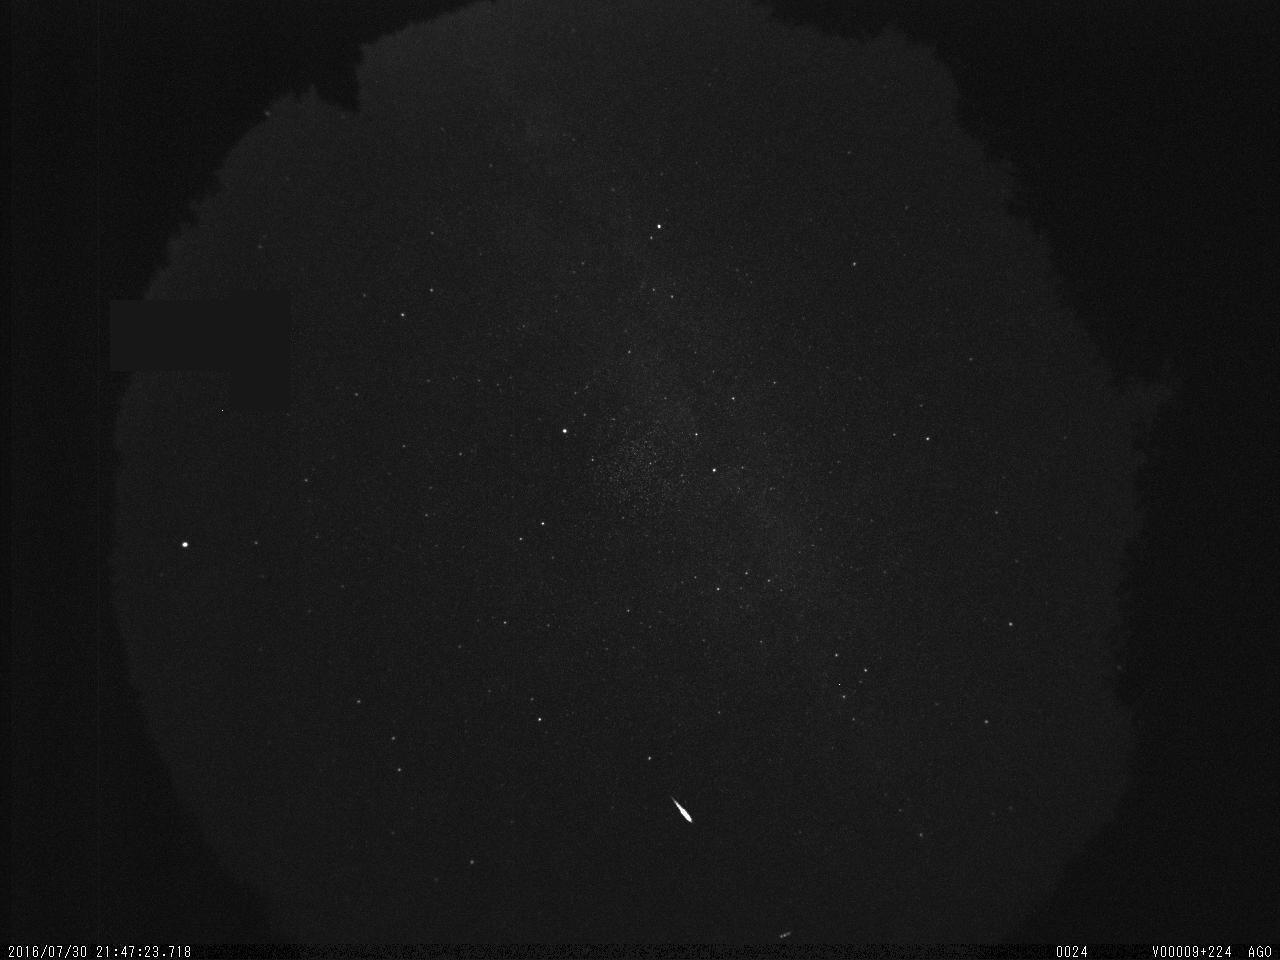Meteor: (670, 794, 694, 822)
